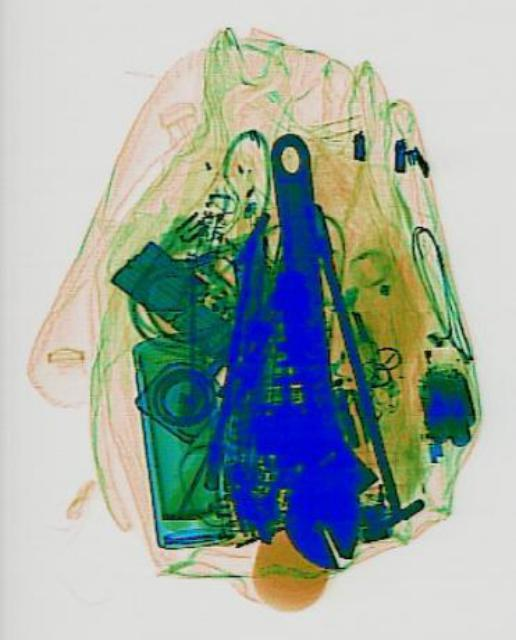Wrench: (239, 125, 383, 570)
